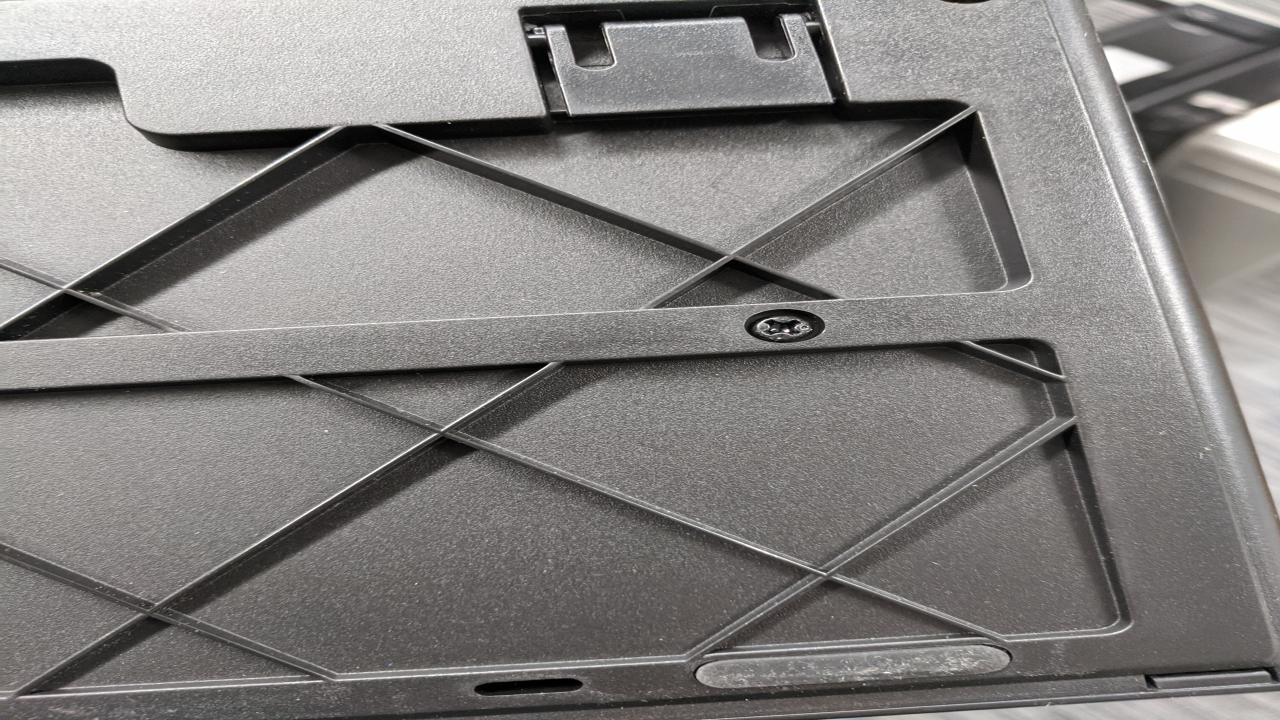CRS: (749, 311, 825, 341)
